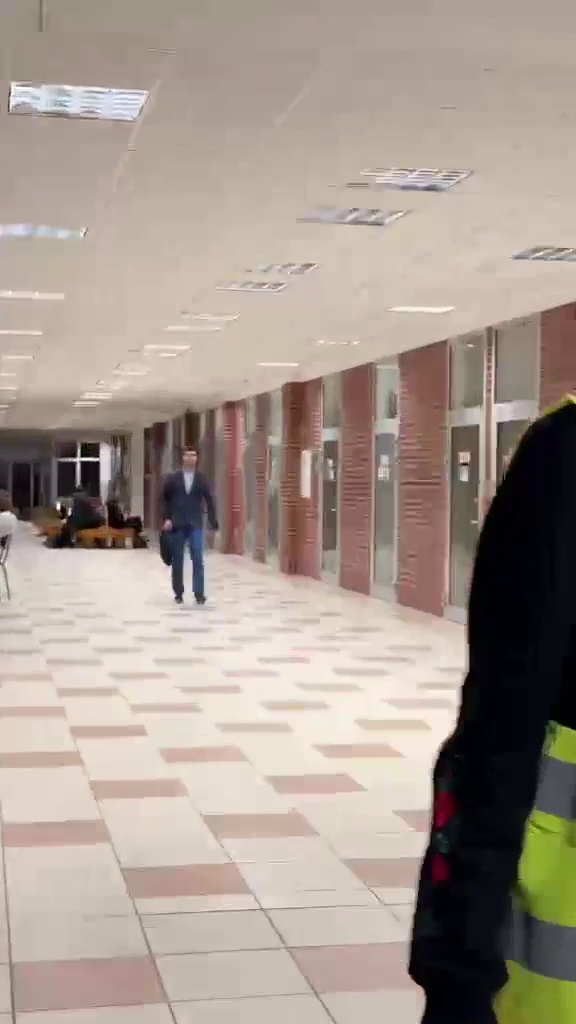no vest: (157, 432, 223, 612)
vest: (412, 374, 576, 1023)
